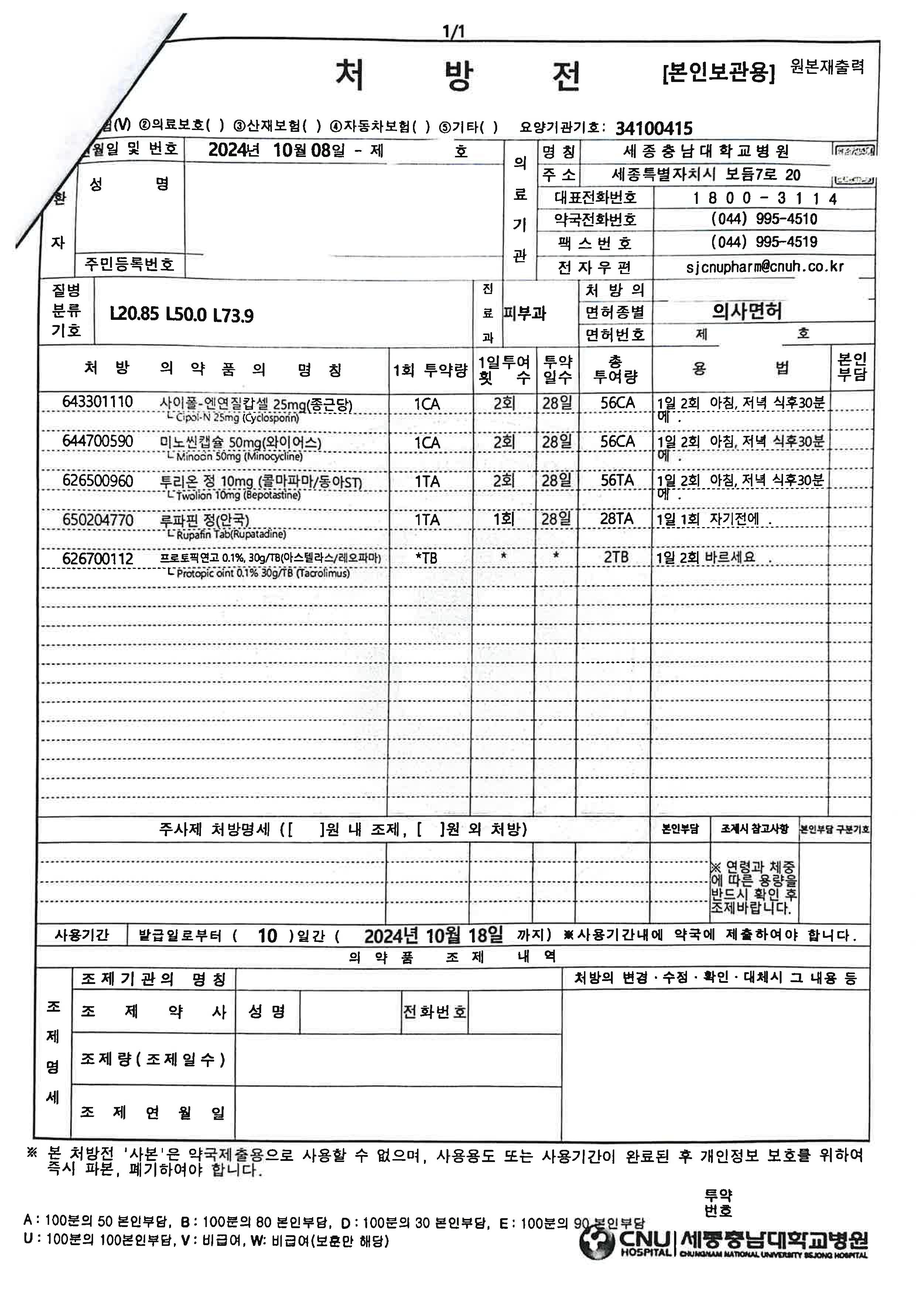row: (28, 946, 562, 1144), (28, 818, 869, 926), (28, 38, 880, 141), (35, 136, 503, 280), (564, 951, 869, 1135), (503, 137, 878, 281), (37, 344, 875, 392), (36, 391, 874, 434), (40, 469, 872, 512), (35, 546, 871, 587), (36, 430, 871, 471), (36, 509, 870, 546), (36, 279, 473, 349), (28, 922, 870, 949), (579, 277, 876, 346), (473, 280, 578, 345)
